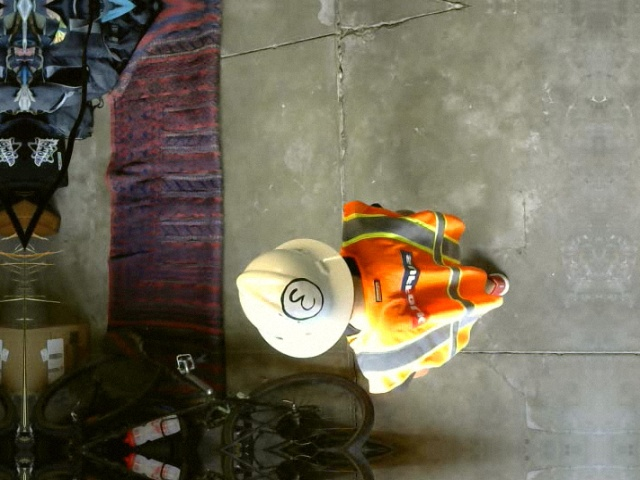three: (279, 277, 323, 320)
